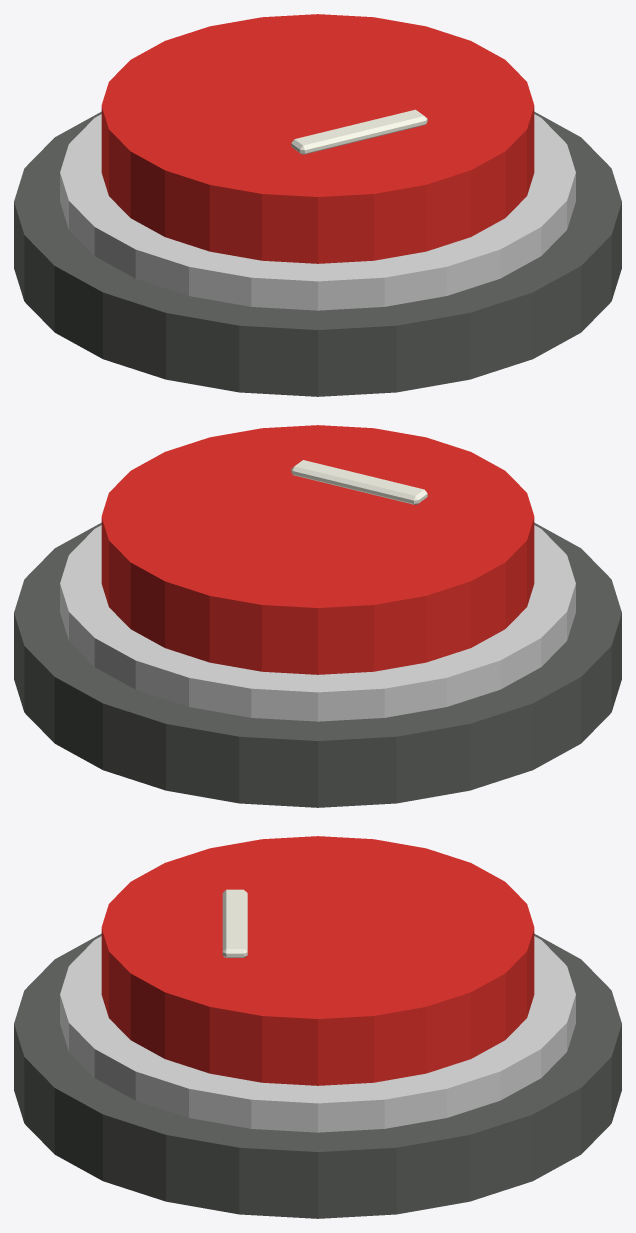
Rendered from terrain-button-36.glb.
3 views of the same model, one above another, from view 1: azimuth 30°, elevation 25°; view 2: azimuth 150°, elevation 25°; view 3: azimuth 270°, elevation 25° (orthographic).
Visible parts, largest first — view 1: terrain-button-36; view 2: terrain-button-36; view 3: terrain-button-36.
Boxes of the visible parts, x1,y1,x2,y2 form: terrain-button-36: (14, 14, 621, 396); terrain-button-36: (14, 425, 621, 807); terrain-button-36: (14, 836, 621, 1218).
Size of the model in its own units: 0.66 by 0.205 by 0.66.
